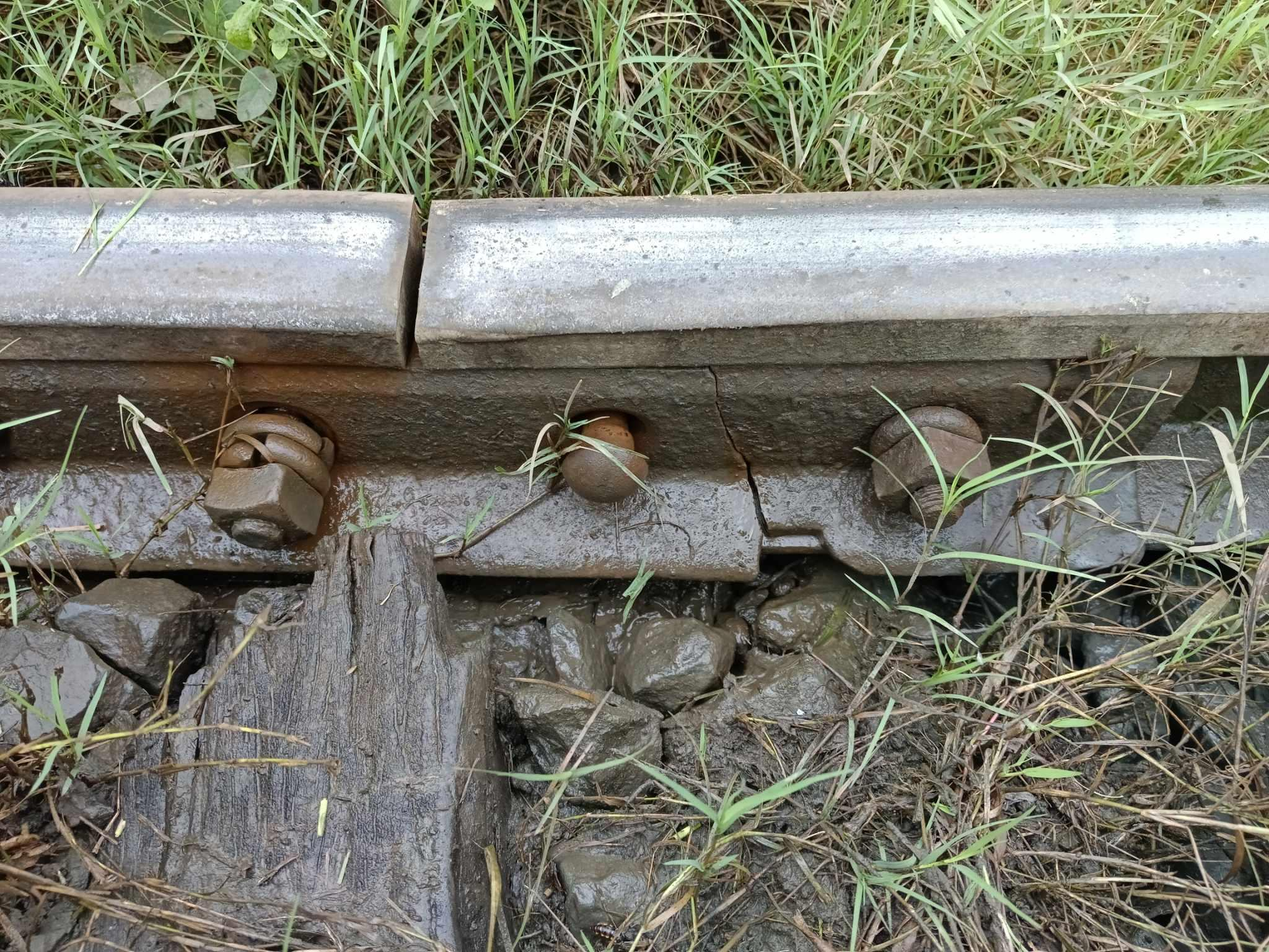railway-gap: (292, 157, 534, 408)
